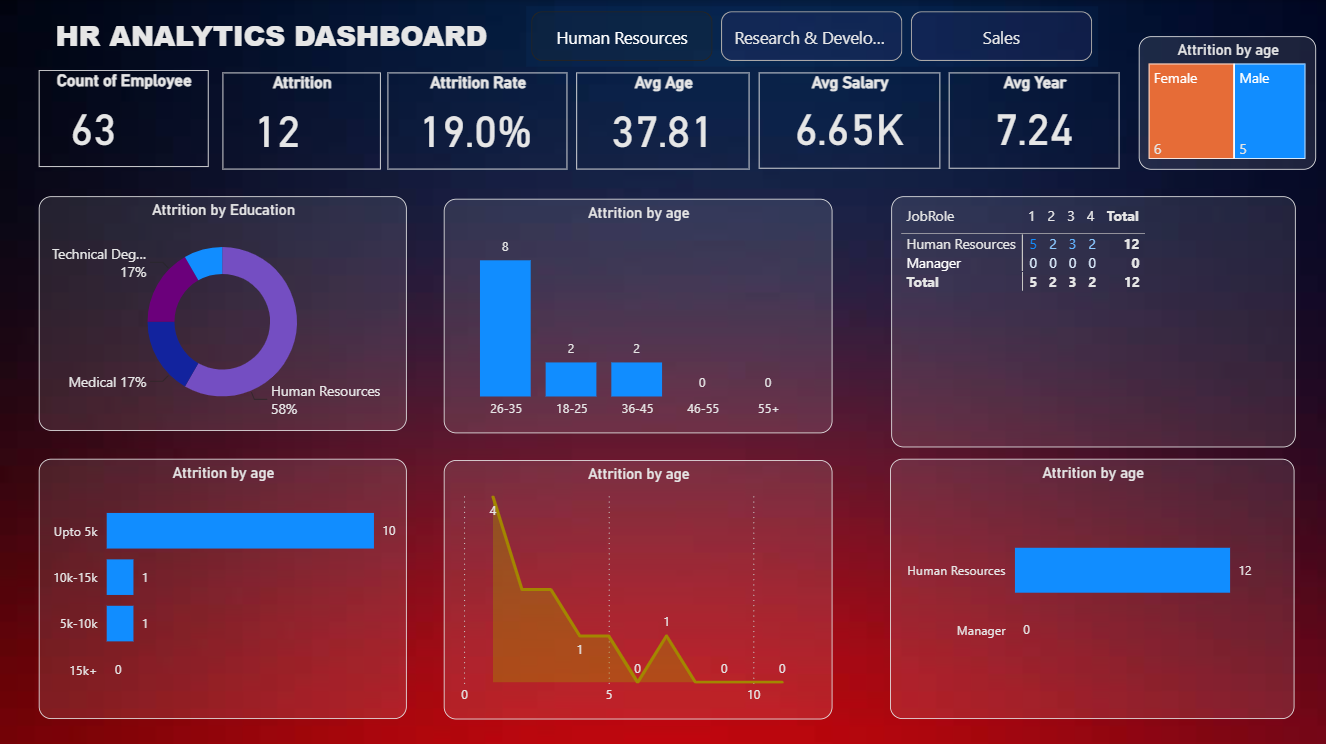

This screenshot's page, from the dashboard's own definition file:
{"tool":"powerbi","page":{"name":"Page 1","canvas":[1280,720],"ordinal":0},"visuals":[{"type":"cardVisual","title":"Count of Employee","fields":{"Data":["CountNonNull(HR_Analytics.EmpID)"]},"box":[37.5,67.5,163.8,93.8],"z":0},{"type":"cardVisual","title":"Attrition","fields":{"Data":["Sum(HR_Analytics.AttritionCount)"]},"box":[215,70,152.5,93.8],"z":1000},{"type":"cardVisual","title":"Attrition Rate","fields":{"Data":["HR_Analytics.AttritionRate"]},"box":[373.8,70,173.8,93.8],"z":2000},{"type":"cardVisual","title":"Avg Age","fields":{"Data":["Avg(HR_Analytics.Age)"]},"box":[556.2,70,167.5,93.8],"z":3000},{"type":"cardVisual","title":"Avg Salary","fields":{"Data":["Avg(HR_Analytics.MonthlyIncome)"]},"box":[732.5,70,175,92.5],"z":4000},{"type":"cardVisual","title":"Avg Year","fields":{"Data":["Avg(HR_Analytics.YearsAtCompany)"]},"box":[916.2,70,165,92.5],"z":5000},{"type":"donutChart","title":"Attrition by Education","fields":{"Category":["HR_Analytics.EducationField"],"Y":["Sum(HR_Analytics.AttritionCount)"]},"box":[37.5,190,355,226.2],"z":6000},{"type":"columnChart","title":"Attrition by age","fields":{"Category":["HR_Analytics.AgeGroup"],"Y":["Sum(HR_Analytics.AttritionCount)"]},"box":[428.8,191.2,375,226.2],"z":7000},{"type":"pivotTable","fields":{"Rows":["HR_Analytics.JobRole"],"Columns":["HR_Analytics.JobSatisfaction"],"Values":["Sum(HR_Analytics.AttritionCount)"]},"box":[860,190,390,242.5],"z":8000},{"type":"barChart","title":"Attrition by age","fields":{"Category":["HR_Analytics.SalarySlab"],"Y":["Sum(HR_Analytics.AttritionCount)"]},"box":[37.1,443.3,354.9,250.9],"z":9000},{"type":"barChart","title":"Attrition by age","fields":{"Y":["Sum(HR_Analytics.AttritionCount)"],"Category":["HR_Analytics.JobRole"]},"box":[859.5,443.3,390.6,250.9],"z":10000},{"type":"areaChart","title":"Attrition by age","fields":{"Category":["HR_Analytics.YearsAtCompany"],"Y":["Sum(HR_Analytics.AttritionCount)"]},"box":[428.8,443.8,375,250],"z":11000},{"type":"treemap","title":"Attrition by age","fields":{"Group":["HR_Analytics.Gender"],"Values":["Sum(HR_Analytics.AttritionCount)"]},"box":[1098.8,35,171.2,128.8],"z":12000},{"type":"advancedSlicerVisual","fields":{"Values":["HR_Analytics.Department"]},"box":[507.4,5.7,551.6,58.4],"z":13000},{"type":"textbox","box":[37.5,10,448.8,48.8],"z":14000}]}

Visuals, with their boxes in screenshot pixels (x1, y1, x2, y2), scaled from the page's 1280x720 canvas onto the 1326x744 screenshot:
"Count of Employee" cardVisual: locate(39, 70, 209, 167)
"Attrition" cardVisual: locate(223, 72, 381, 169)
"Attrition Rate" cardVisual: locate(387, 72, 567, 169)
"Avg Age" cardVisual: locate(576, 72, 750, 169)
"Avg Salary" cardVisual: locate(759, 72, 940, 168)
"Avg Year" cardVisual: locate(949, 72, 1120, 168)
"Attrition by Education" donutChart: locate(39, 196, 407, 430)
"Attrition by age" columnChart: locate(444, 198, 833, 431)
pivotTable - HR_Analytics.JobRole x HR_Analytics.JobSatisfaction: locate(891, 196, 1295, 447)
"Attrition by age" barChart: locate(38, 458, 406, 717)
"Attrition by age" barChart: locate(890, 458, 1295, 717)
"Attrition by age" areaChart: locate(444, 459, 833, 717)
"Attrition by age" treemap: locate(1138, 36, 1316, 169)
advancedSlicerVisual - HR_Analytics.Department: locate(526, 6, 1097, 66)
textbox: locate(39, 10, 504, 61)
